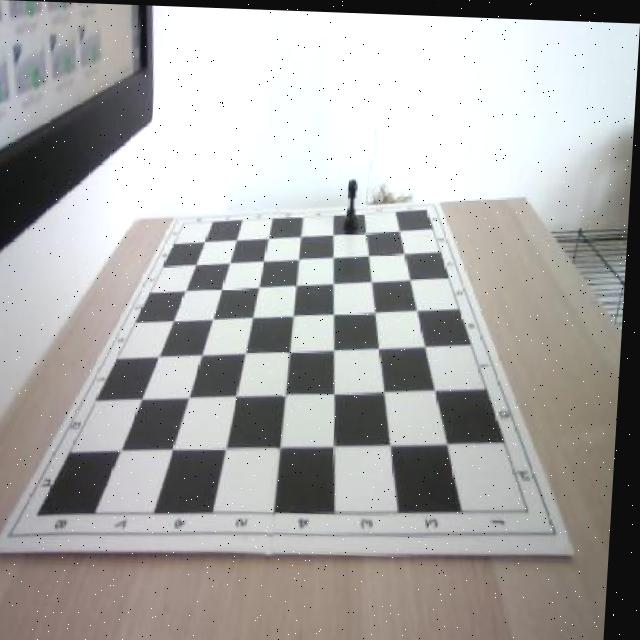black-knight: (346, 177, 364, 230)
